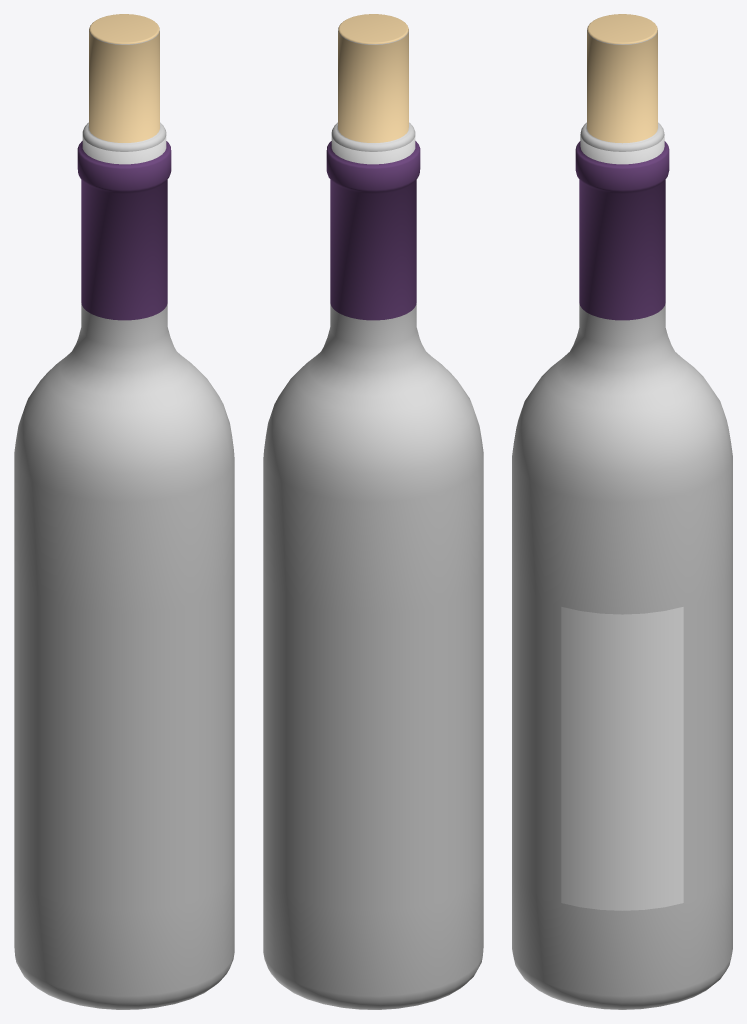
Rendered from Basura3.fbx.
3 renders of one model, left to right at view 1: azimuth 30°, elevation 25°; view 2: azimuth 150°, elevation 25°; view 3: azimuth 270°, elevation 25°, orthographic.
Parts seen in each view (by area): view 1: Basura3; view 2: Basura3; view 3: Basura3.
Boxes of the visible parts, left/top/right/bottom form: Basura3: left=14, top=14, right=234, bottom=1009; Basura3: left=263, top=14, right=483, bottom=1009; Basura3: left=512, top=14, right=732, bottom=1009.
Size of the model in its own units: 22 by 104 by 22.
